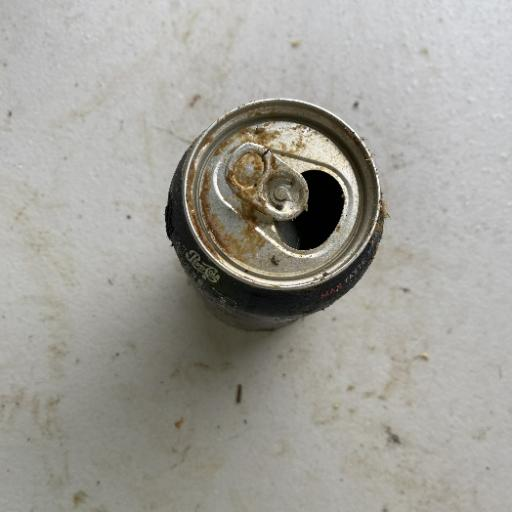Metal: (162, 96, 387, 333)
